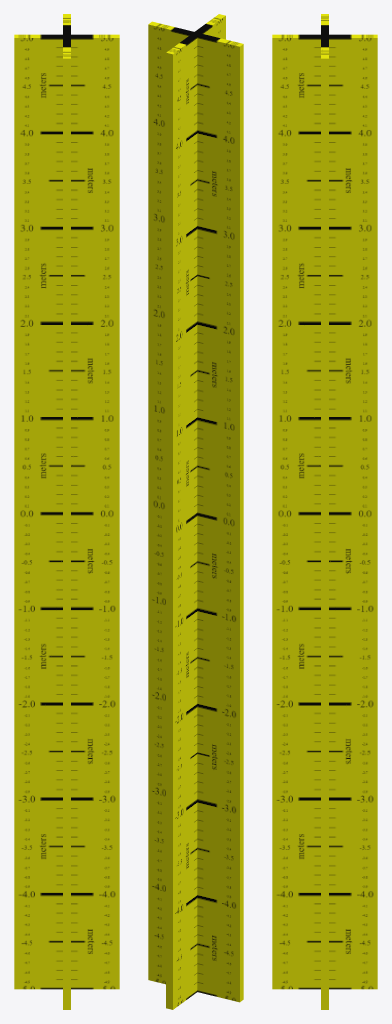
File: ruler.glb
3 renders of one model, left to right at view 1: azimuth 90°, elevation 25°; view 2: azimuth 150°, elevation 25°; view 3: azimuth 270°, elevation 25°, orthographic.
Visible parts, largest first — view 1: Ruler; view 2: Ruler; view 3: Ruler.
Part boxes in pixels (x1,y1,x2,y2): Ruler: [14, 14, 119, 1009]; Ruler: [148, 14, 243, 1009]; Ruler: [272, 14, 377, 1009].
Size of the model in its own units: 1 by 10 by 1.
1 material, 1 textured.
